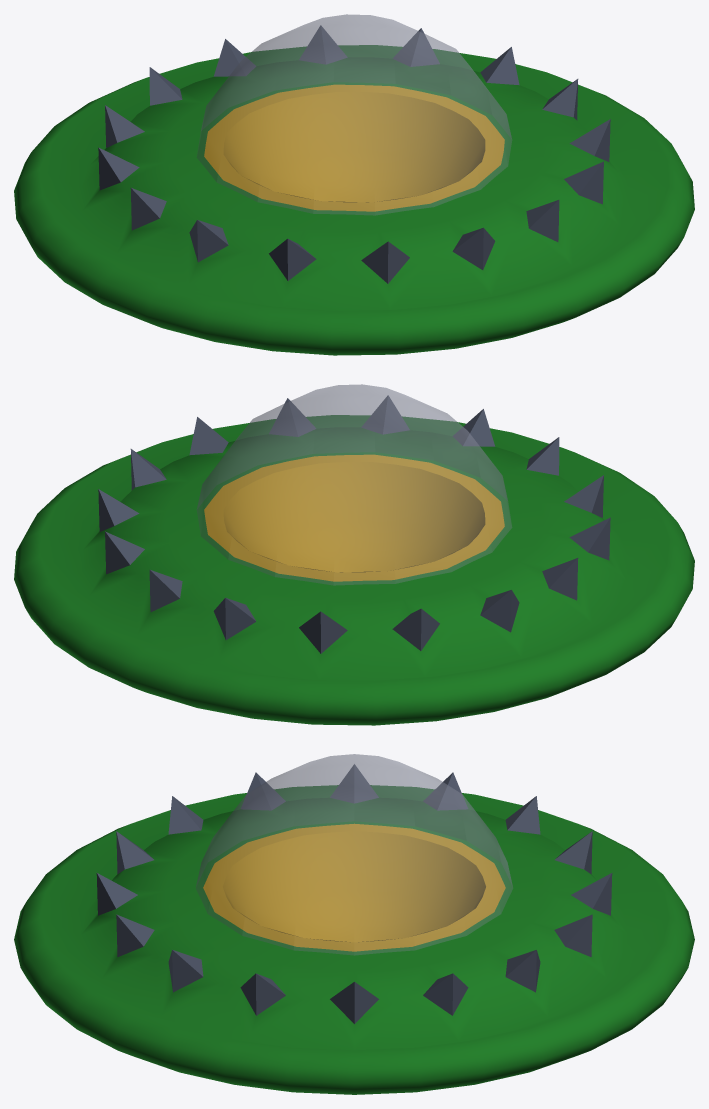
File: UFO.fbx
3 views of the same model, one above another, from view 1: azimuth 30°, elevation 25°; view 2: azimuth 150°, elevation 25°; view 3: azimuth 270°, elevation 25° (orthographic).
Parts seen in each view (by area): view 1: UFO; view 2: UFO; view 3: UFO.
Boxes of the visible parts, x1,y1,x2,y2 form: UFO: [14, 14, 694, 355]; UFO: [14, 384, 694, 725]; UFO: [14, 754, 694, 1094].
Size of the model in its own units: 8.22 by 3.04 by 8.22.
